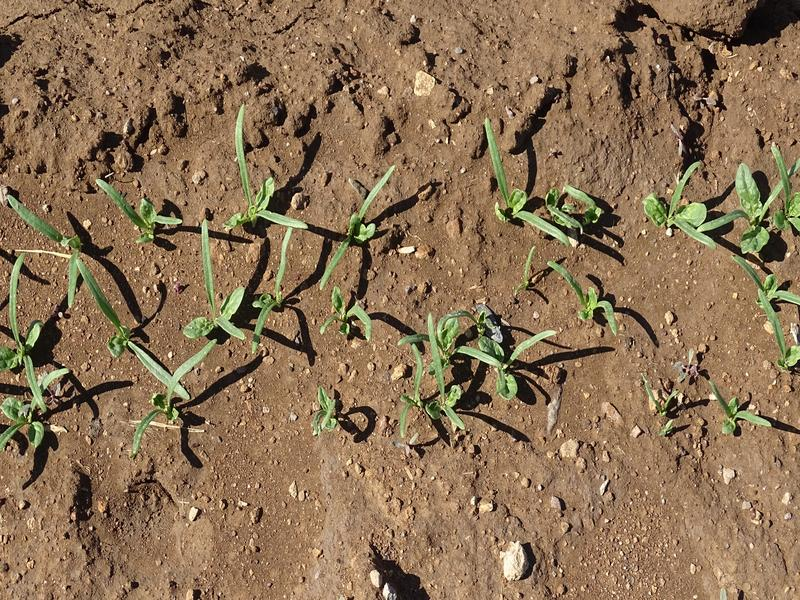Espinaca: (1, 131, 393, 452), (650, 163, 800, 367), (476, 135, 631, 327), (400, 303, 539, 448), (706, 380, 772, 442)
